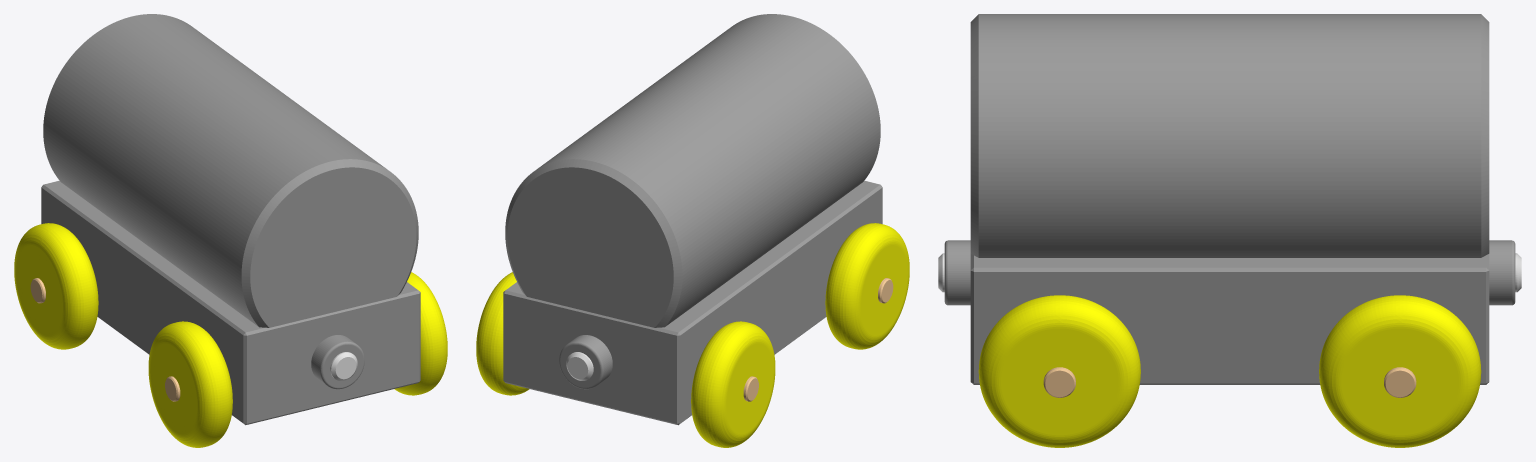
The picture shows the model from 3 angles, left to right: view 1: azimuth 30°, elevation 25°; view 2: azimuth 150°, elevation 25°; view 3: azimuth 270°, elevation 25°; orthographic projection. The views are drawn at different scales.
Parts seen in each view (by area): view 1: out.pan, out.wheel_000.rwheel, out.wheel_001.lwheel, out.wheel_001.rwheel, out.back_coupling.cover, out.back_coupling.magnet; view 2: out.pan, out.wheel_001.lwheel, out.wheel_000.rwheel, out.wheel_000.lwheel, out.front_coupling.cover, out.front_coupling.magnet; view 3: out.pan, out.wheel_001.rwheel, out.wheel_000.lwheel, out.front_coupling.cover, out.back_coupling.cover, out.wheel_001.axle, out.wheel_000.axle.
Boxes of the visible parts, x1,y1,x2,y2 form: out.pan: (41, 14, 420, 425); out.wheel_000.rwheel: (14, 223, 98, 349); out.wheel_001.lwheel: (148, 321, 232, 447); out.wheel_001.rwheel: (394, 272, 447, 395); out.back_coupling.cover: (311, 335, 364, 389); out.back_coupling.magnet: (330, 352, 357, 380); out.pan: (503, 14, 882, 425); out.wheel_001.lwheel: (825, 223, 909, 349); out.wheel_000.rwheel: (691, 321, 775, 447); out.wheel_000.lwheel: (476, 272, 529, 395); out.front_coupling.cover: (559, 335, 612, 389); out.front_coupling.magnet: (566, 352, 593, 380); out.pan: (970, 14, 1489, 384); out.wheel_001.rwheel: (978, 295, 1140, 447); out.wheel_000.lwheel: (1319, 295, 1481, 447); out.front_coupling.cover: (1489, 240, 1515, 305); out.back_coupling.cover: (944, 240, 970, 305); out.wheel_001.axle: (1043, 367, 1075, 397); out.wheel_000.axle: (1384, 367, 1416, 397).
Size of the model in its own units: 0.023 by 0.024 by 0.036.
